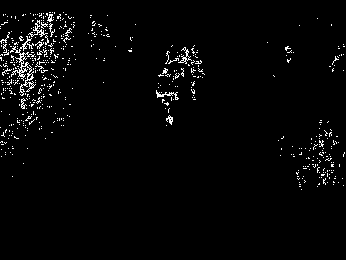person: (156, 66, 179, 125)
